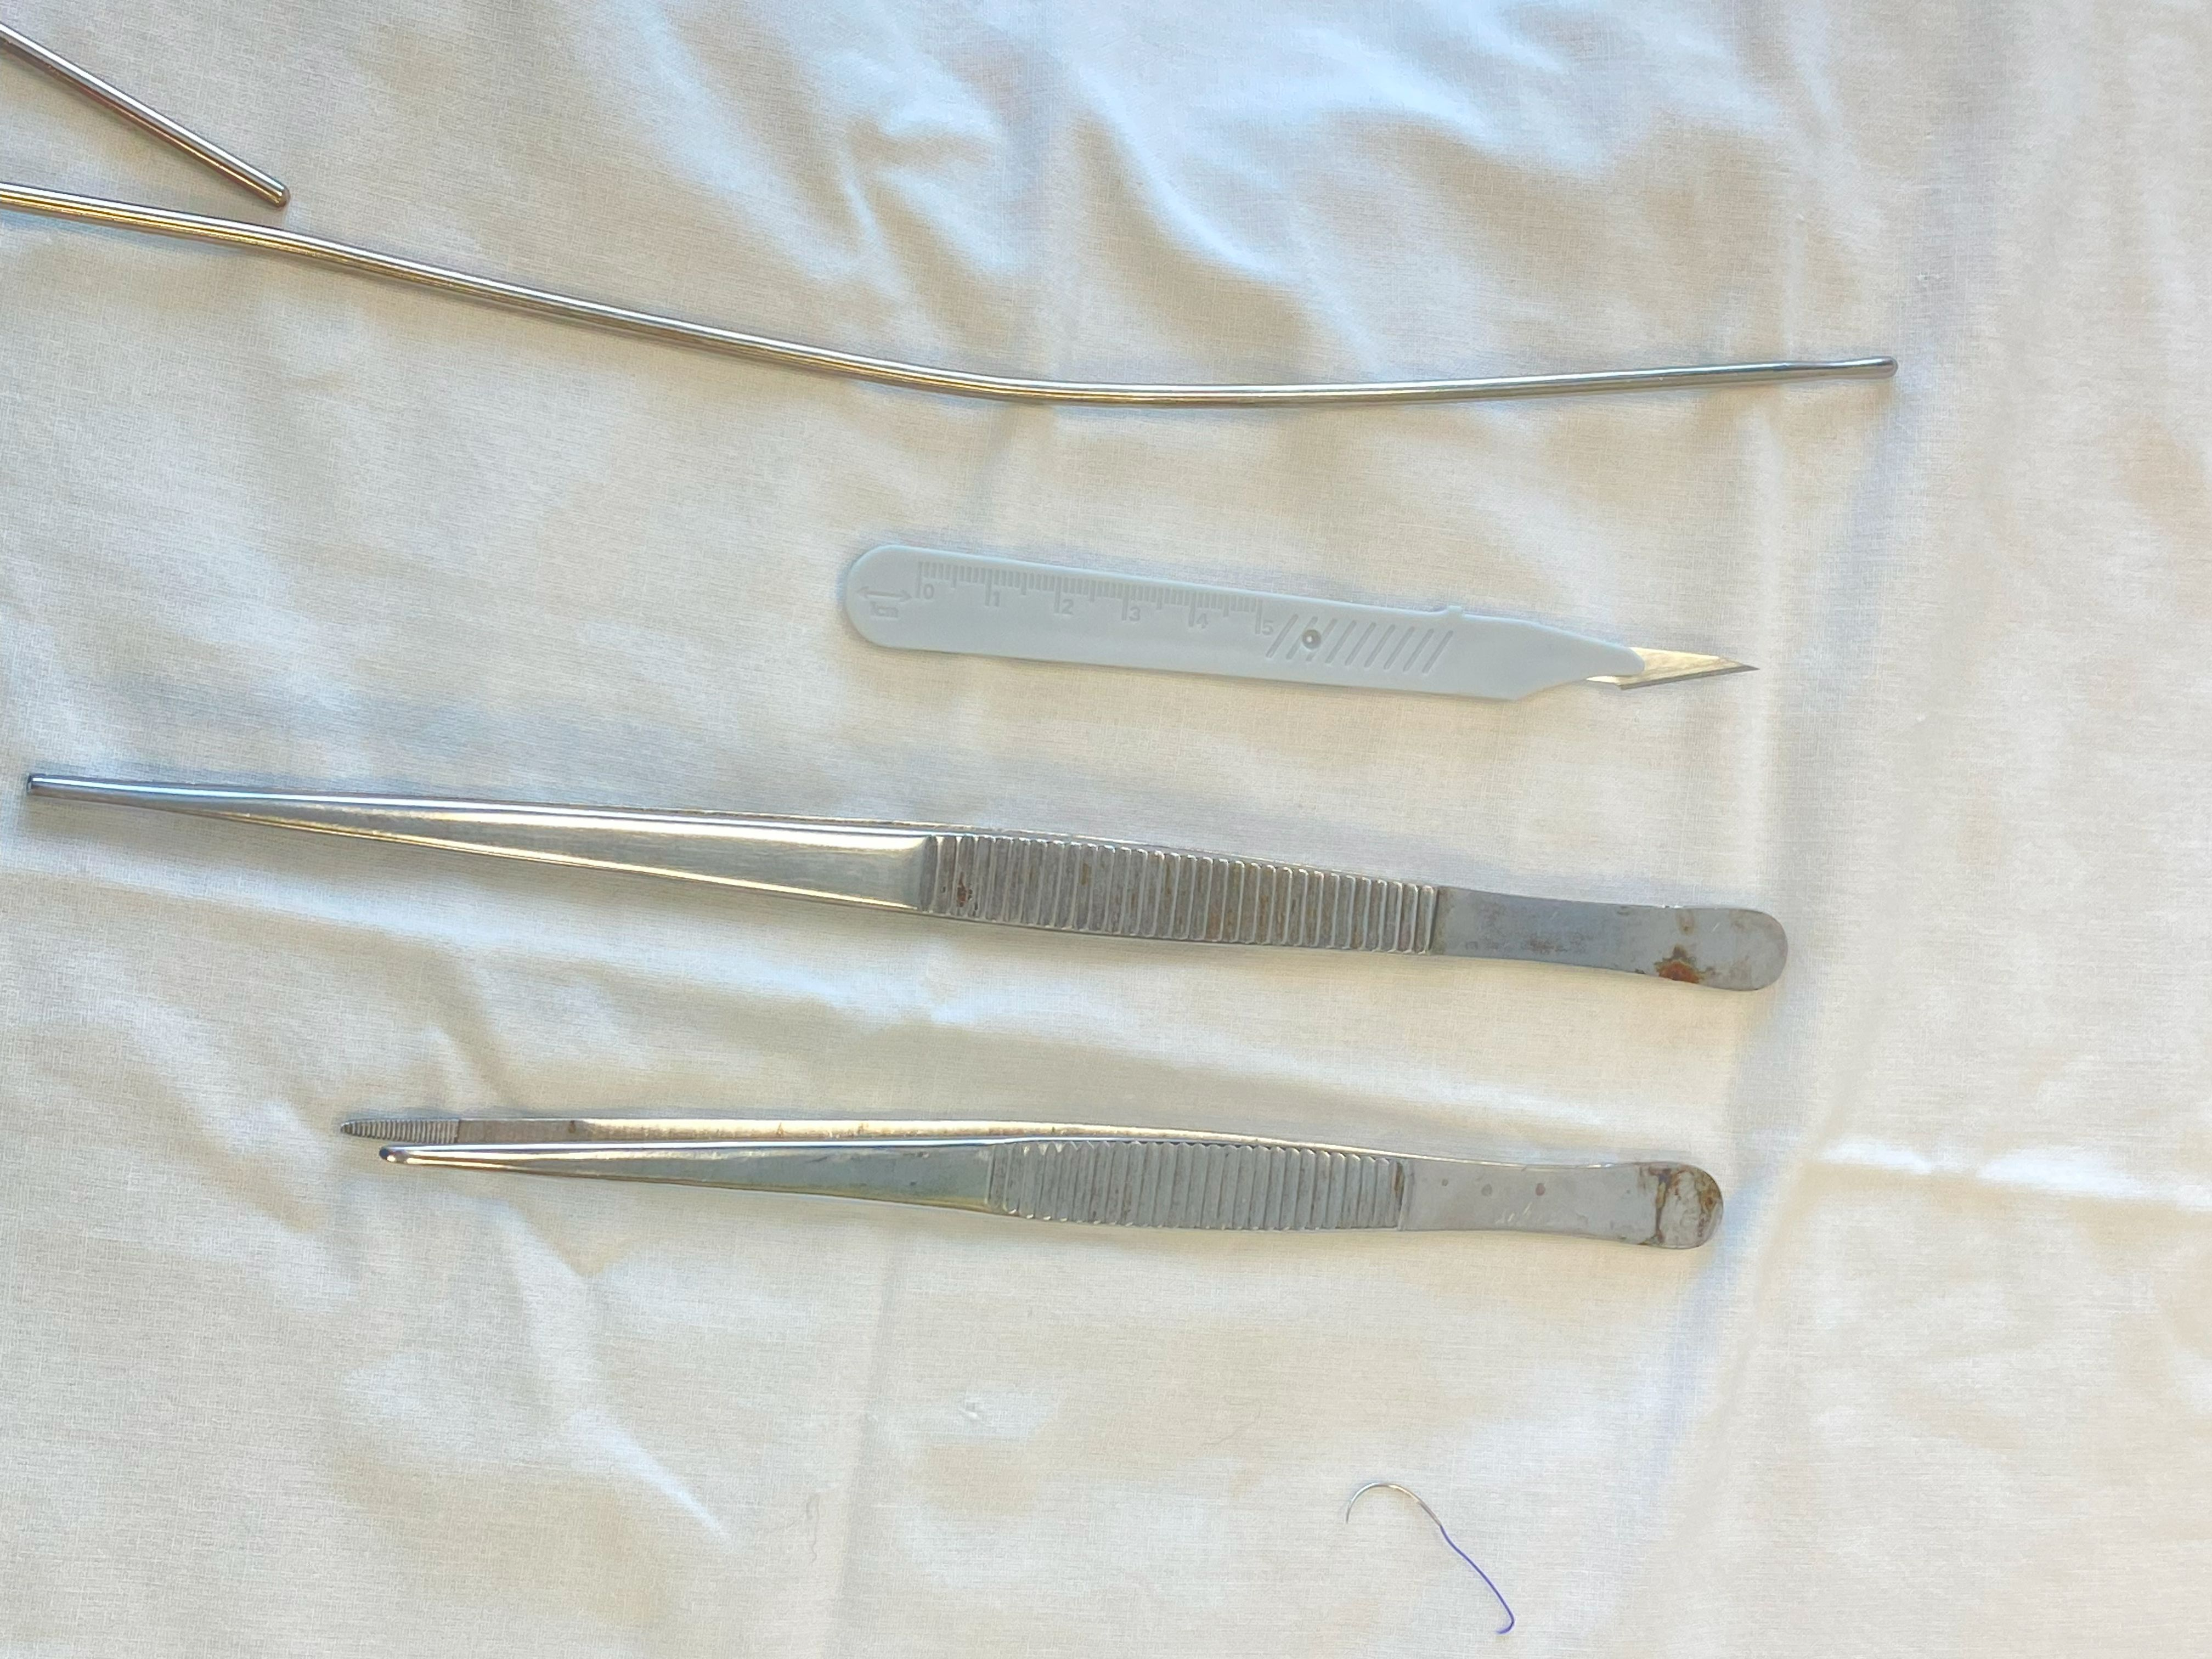tweezers: (28, 775, 1787, 990), (343, 1119, 1723, 1249)
